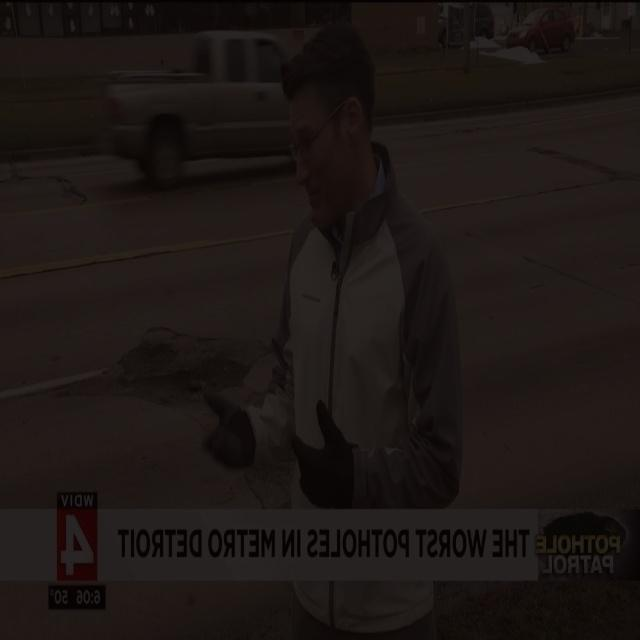Pothole: (52, 318, 273, 410)
